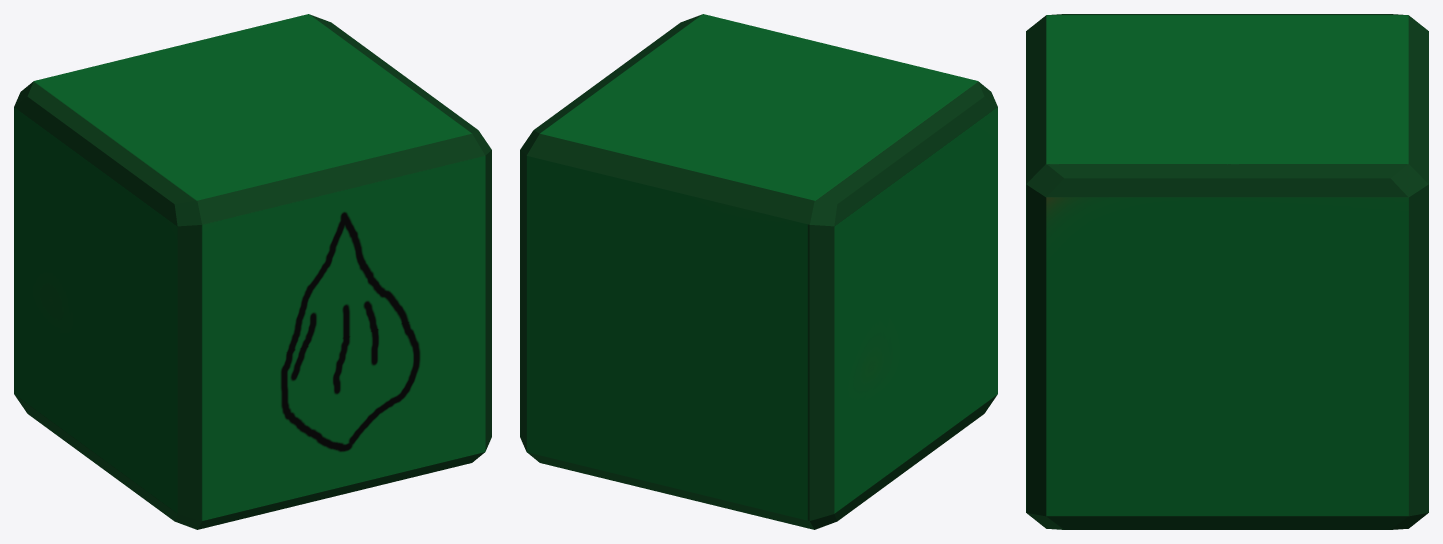
Rendered from grassblock.obj.
The picture shows the model from 3 angles, left to right: view 1: azimuth 30°, elevation 25°; view 2: azimuth 150°, elevation 25°; view 3: azimuth 270°, elevation 25°; orthographic projection. The views are drawn at different scales.
Visible parts, largest first — view 1: Cube; view 2: Cube; view 3: Cube.
Boxes of the visible parts, x1=… form: Cube: x1=14, y1=14, x2=491, y2=529; Cube: x1=520, y1=14, x2=997, y2=529; Cube: x1=1026, y1=14, x2=1428, y2=529.
Bounding box in the file's own units: 2 × 2 × 2.
